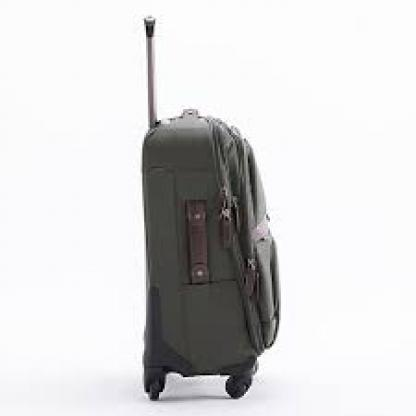maleta: (128, 89, 303, 405)
